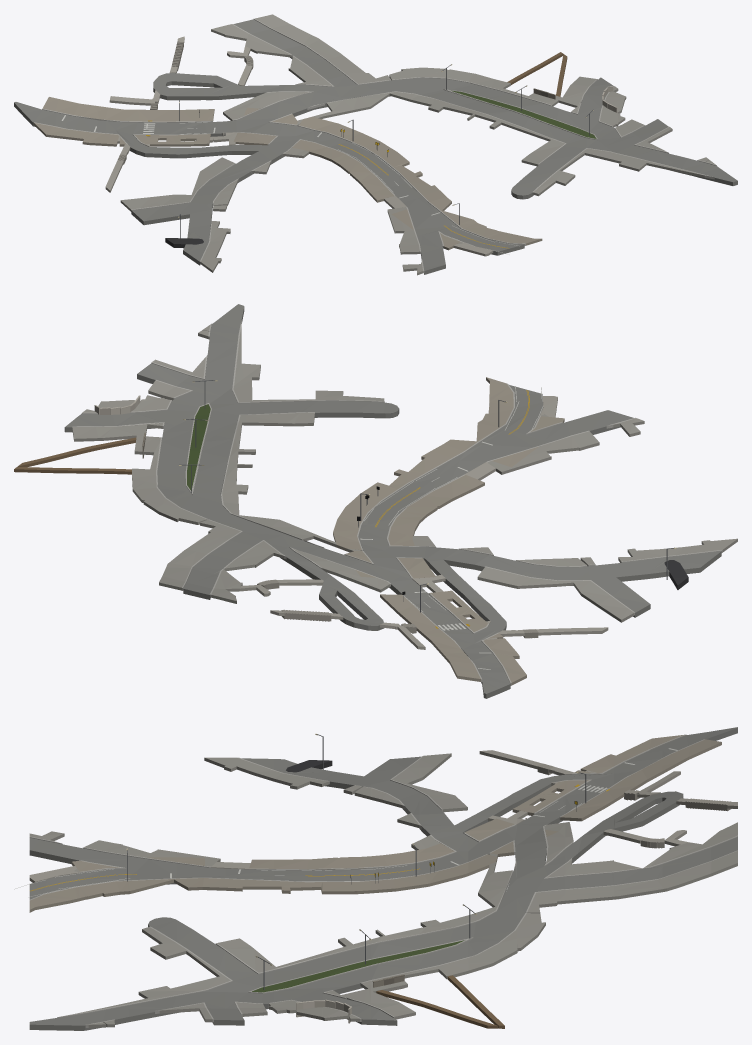
3 renders of one model, top to bottom at view 1: azimuth 30°, elevation 25°; view 2: azimuth 150°, elevation 25°; view 3: azimuth 270°, elevation 25°, orthographic. The views are drawn at different scales.
Bounding box in the file's own units: 147 × 16.94 × 149.
